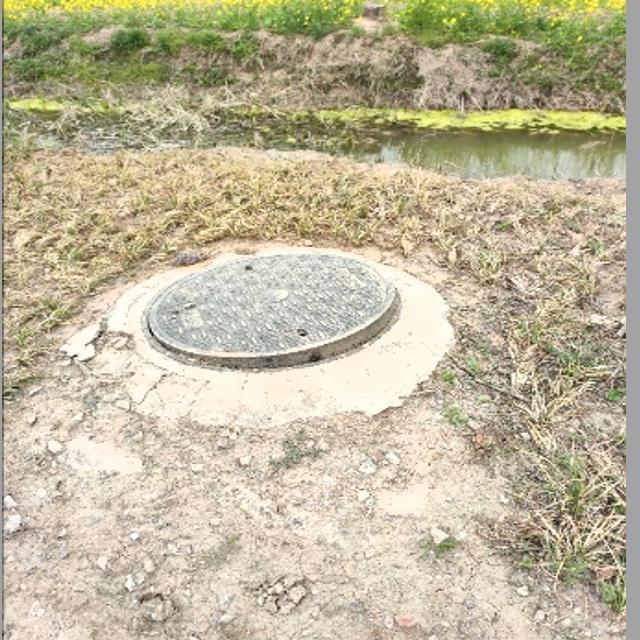good: (137, 253, 399, 370)
